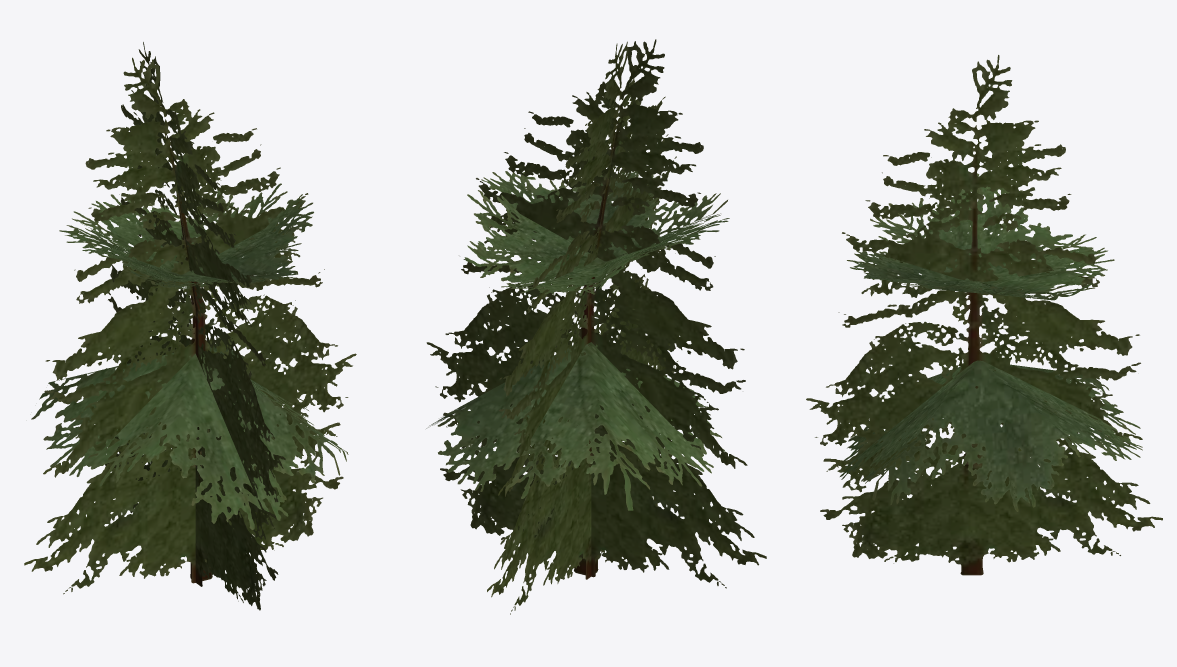
Rendered from Background_Tree_Atlas_009_alt.glb.
The picture shows the model from 3 angles, left to right: view 1: azimuth 30°, elevation 25°; view 2: azimuth 150°, elevation 25°; view 3: azimuth 270°, elevation 25°; orthographic projection. The views are drawn at different scales.
Visible parts, largest first — view 1: Background_Tree_Atlas.009; view 2: Background_Tree_Atlas.009; view 3: Background_Tree_Atlas.009.
Boxes of the visible parts, x1=… form: Background_Tree_Atlas.009: x1=24, y1=42, x2=356, y2=610; Background_Tree_Atlas.009: x1=426, y1=39, x2=766, y2=614; Background_Tree_Atlas.009: x1=806, y1=55, x2=1162, y2=575.
Bounding box in the file's own units: 361 × 551 × 361.
Materials: 1 (1 with a texture image).
